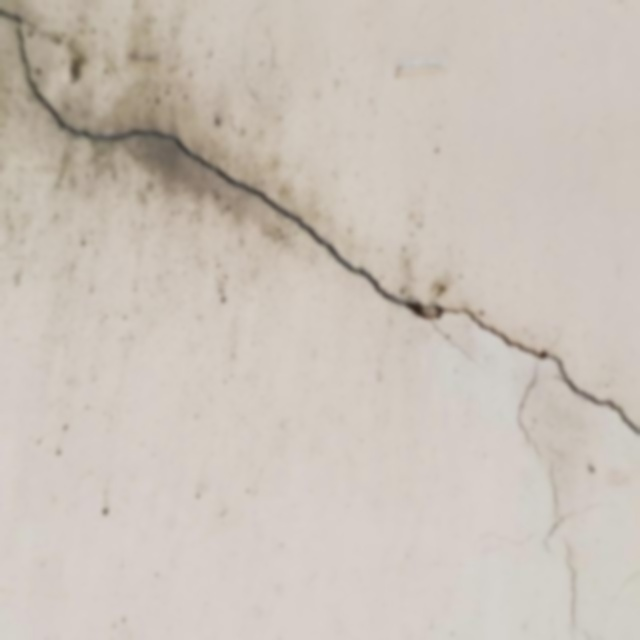SurfaceCrack: (0, 1, 639, 496)
